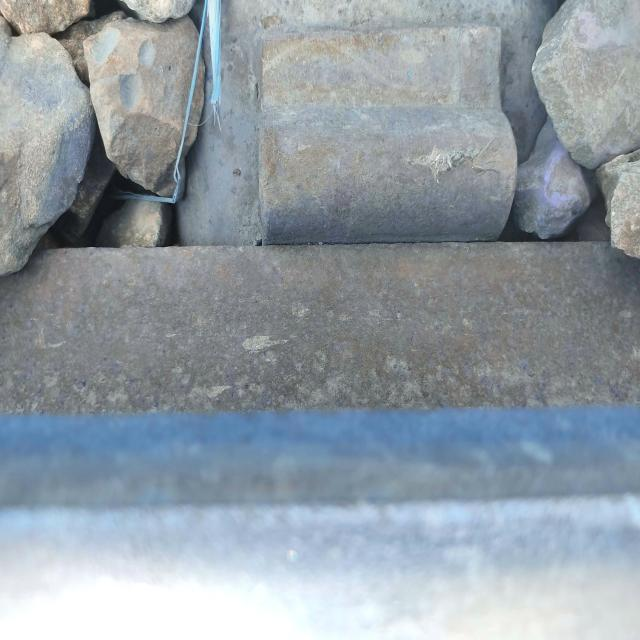Missing Fastener: (162, 2, 608, 366)
